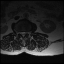CCS_normal: (22, 30, 24, 39)
LFS_severe_stenosis: (26, 30, 27, 35)
LLS_normal: (24, 30, 26, 36)
RFS_stenosis: (18, 30, 20, 35)
RLS_normal: (20, 30, 22, 36)
